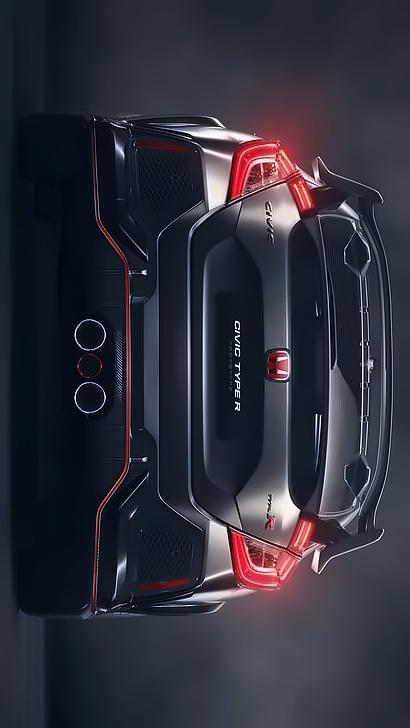Car boot: (149, 177, 310, 551)
Rear bumper: (86, 103, 245, 632)
Rear light - -L-: (222, 137, 316, 219)
Rear light - -R-: (222, 510, 318, 592)
